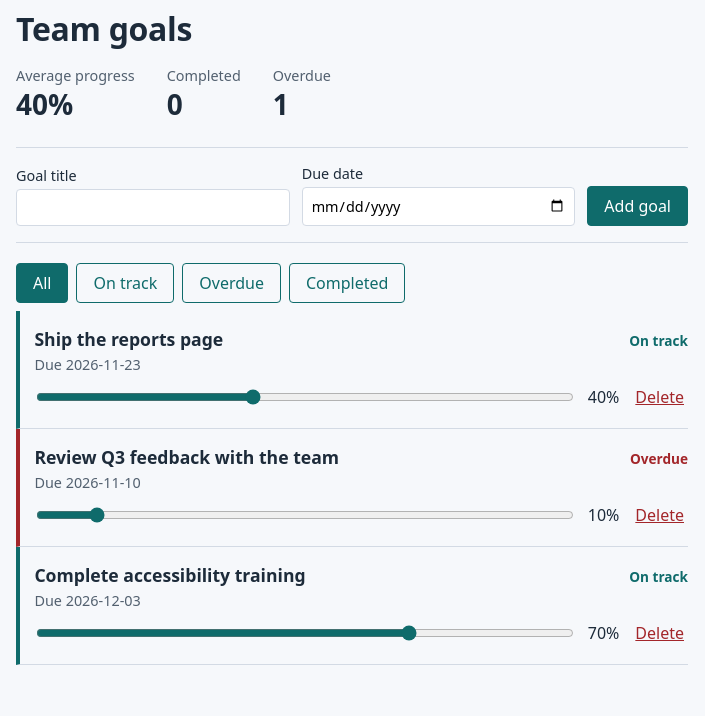
App › shows a validation error for an empty form
Step 1. Click the button "Add goal" → (638, 206), box 587,186 -> 688,226
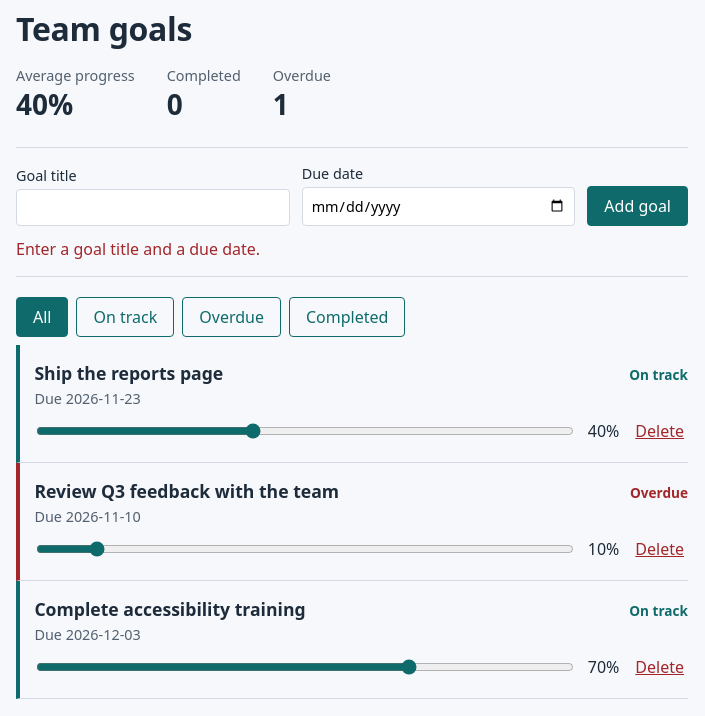
Expected: the message shows "Enter a goal title", 16,238 -> 260,260
